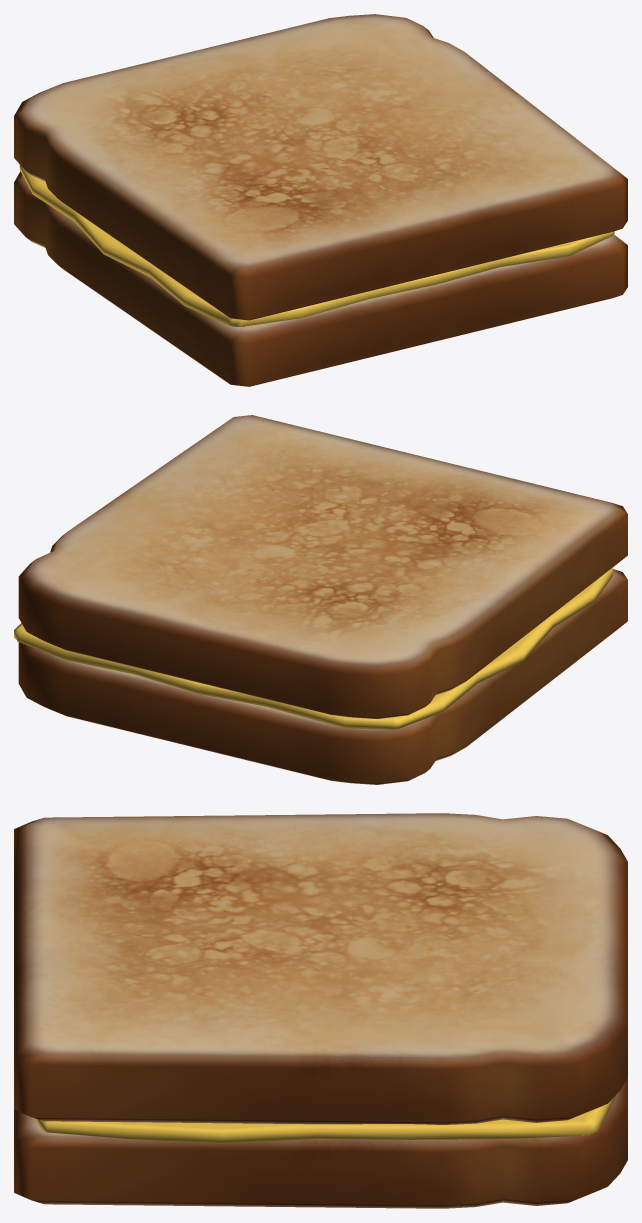
The model's file is Cheese bread.fbx.
3 views of the same model, one above another, from view 1: azimuth 30°, elevation 25°; view 2: azimuth 150°, elevation 25°; view 3: azimuth 270°, elevation 25° (orthographic). The views are drawn at different scales.
Parts seen in each view (by area): view 1: polySurface4, polySurface1, polySurface2, polySurface3; view 2: polySurface4, polySurface1, polySurface2; view 3: polySurface4, polySurface1, polySurface3, polySurface2.
Boxes of the visible parts, left/top/right/bottom form: polySurface4: left=14, top=14, right=627, bottom=320; polySurface1: left=14, top=171, right=627, bottom=386; polySurface2: left=19, top=164, right=246, bottom=326; polySurface3: left=242, top=231, right=614, bottom=326; polySurface4: left=18, top=415, right=627, bottom=718; polySurface1: left=18, top=569, right=627, bottom=784; polySurface2: left=14, top=567, right=613, bottom=729; polySurface4: left=14, top=813, right=627, bottom=1124; polySurface1: left=14, top=1077, right=627, bottom=1208; polySurface3: left=33, top=1118, right=590, bottom=1143; polySurface2: left=574, top=1096, right=615, bottom=1135.
Bounding box in the file's own units: 0.419 × 0.1154 × 0.4263.
2 materials, 2 textured.
